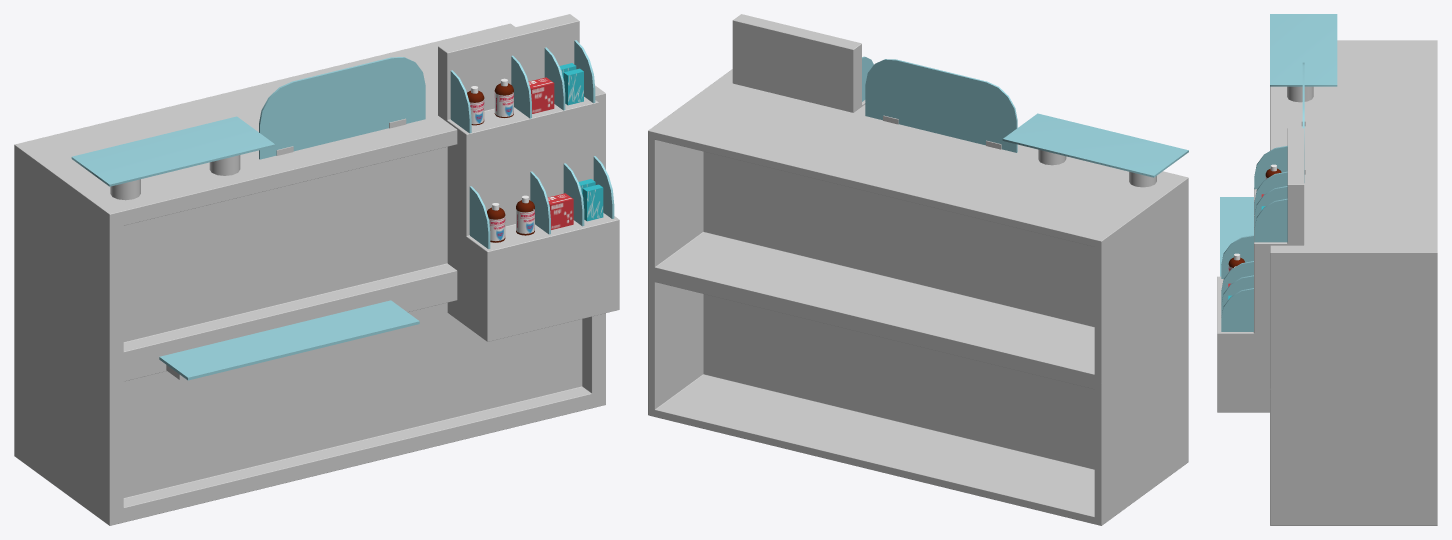
File: Cashier_Desk.fbx
The picture shows the model from 3 angles, left to right: view 1: azimuth 30°, elevation 25°; view 2: azimuth 150°, elevation 25°; view 3: azimuth 270°, elevation 25°; orthographic projection. The views are drawn at different scales.
Visible parts, largest first — view 1: Cashier_Desk; view 2: Cashier_Desk; view 3: Cashier_Desk.
Boxes of the visible parts, x1,y1,x2,y2 form: Cashier_Desk: (14,14,619,525); Cashier_Desk: (648,14,1188,525); Cashier_Desk: (1217,14,1437,525).
Size of the model in its own units: 150 by 110 by 65.8.
